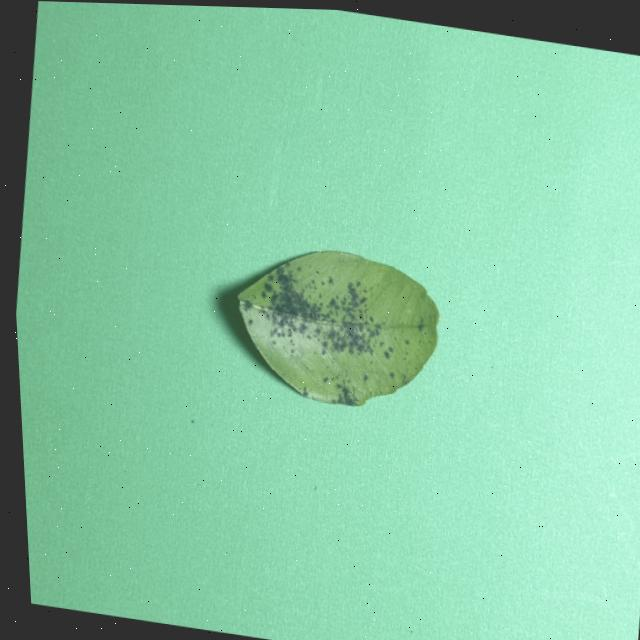sooty_mold: (238, 251, 438, 405)
